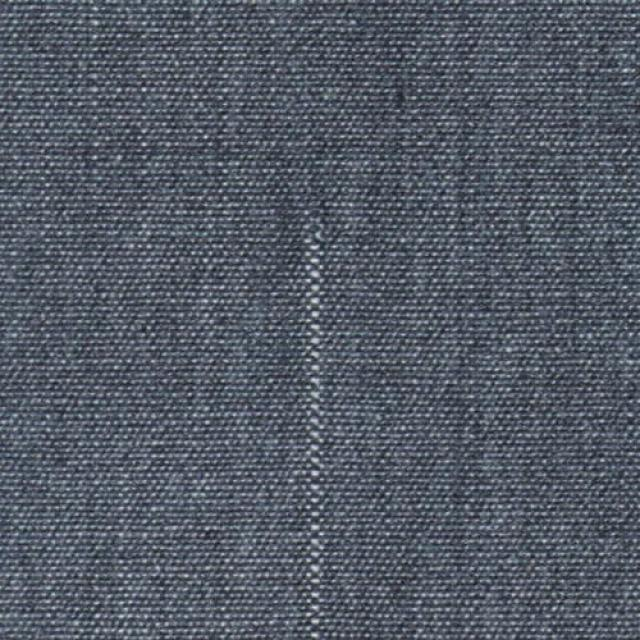Warp_Weft: (299, 218, 330, 640)
